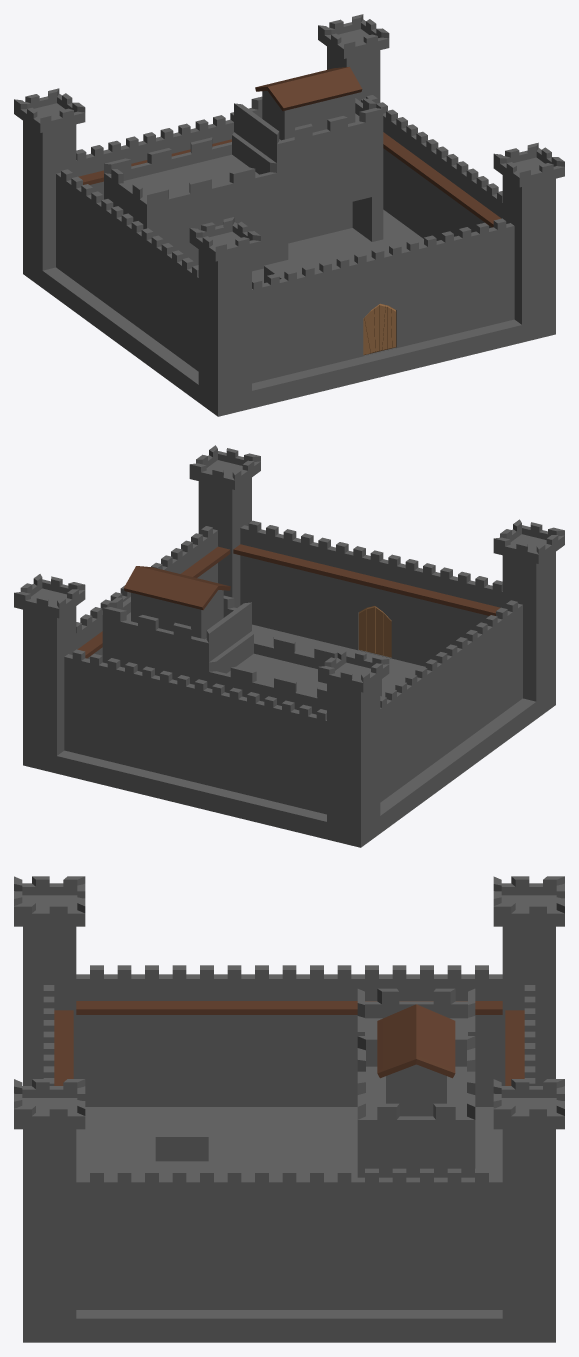
File: castleWIP.fbx
The picture shows the model from 3 angles, top to bottom: view 1: azimuth 30°, elevation 25°; view 2: azimuth 150°, elevation 25°; view 3: azimuth 270°, elevation 25°; orthographic projection. The views are drawn at different scales.
Visible parts, largest first — view 1: Cube, Cube.002; view 2: Cube, Cube.002; view 3: Cube.
Part boxes in pixels (x1,y1,x2,y2): Cube: (14, 14, 564, 416); Cube.002: (363, 303, 396, 355); Cube: (14, 445, 564, 847); Cube.002: (358, 606, 391, 657); Cube: (14, 876, 564, 1342).
Bounding box in the file's own units: 10342 × 5019 × 10342.
Materials: 1 (1 with a texture image).
